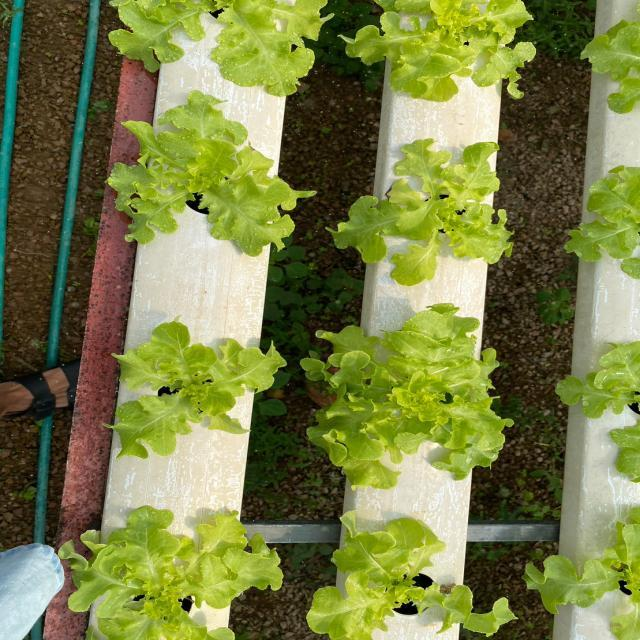Lettuce-Not-Ready-to-Harvest: (302, 305, 510, 489), (109, 92, 309, 256), (62, 508, 281, 640), (334, 139, 511, 288), (308, 512, 512, 640), (114, 321, 284, 458), (112, 0, 321, 93), (349, 0, 532, 101), (528, 508, 640, 640), (568, 168, 640, 278), (559, 341, 640, 419), (589, 21, 640, 111)
